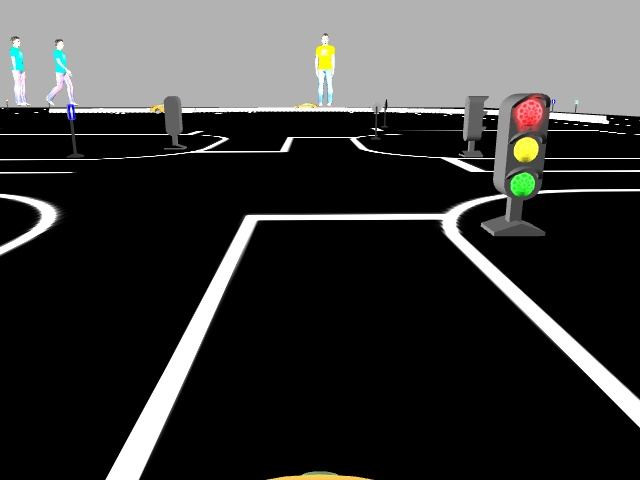TrafficLight: (491, 90, 551, 197)
